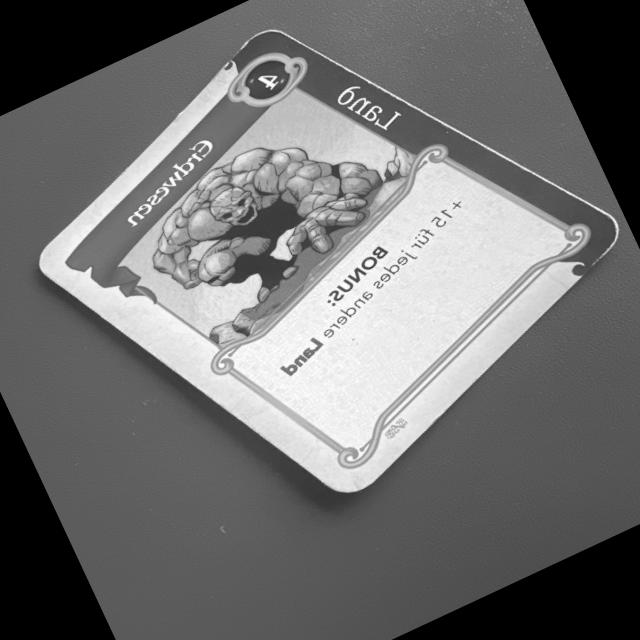Earth Elemental: (29, 22, 630, 500)
